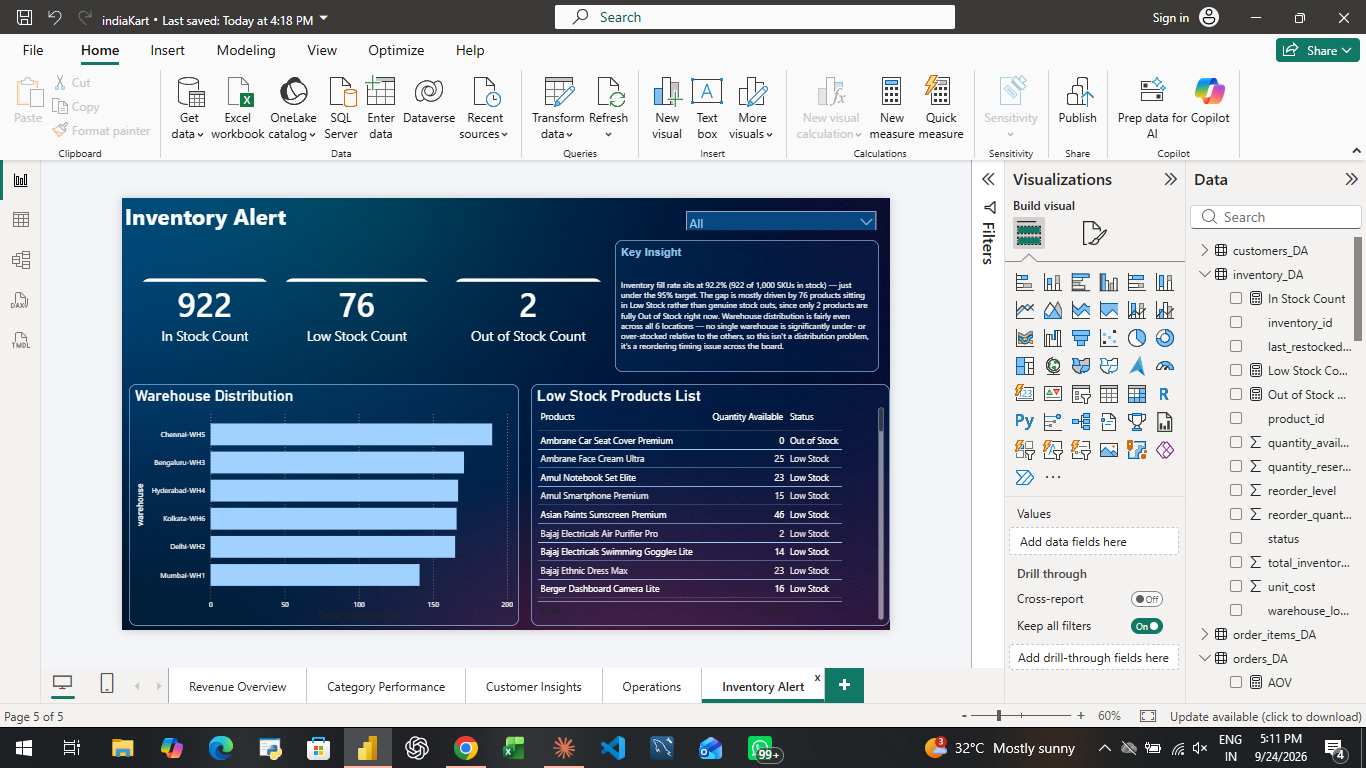

What the dashboard file says about the page in this screenshot:
{"tool":"powerbi","page":{"name":"Inventory Alert","canvas":[1280,720],"ordinal":4},"visuals":[{"type":"textbox","box":[0,0,533.3,70],"z":0},{"type":"textbox","box":[821.7,70,440,220],"z":3000},{"type":"barChart","title":"Warehouse Distribution","fields":{"Category":["inventory_DA.warehouse_location"],"Y":["CountNonNull(inventory_DA.inventory_id)"]},"box":[11.7,310,650,403.3],"z":4000},{"type":"slicer","fields":{"Values":["inventory_DA.status"]},"box":[935,16.7,326.7,36.7],"z":5000},{"type":"tableEx","title":"Low Stock Products List","fields":{"Values":["products_DA.product_name","Sum(inventory_DA.quantity_available)","inventory_DA.status"]},"box":[681.7,310,598.3,403.3],"z":6000},{"type":"cardVisual","fields":{"Data":["inventory_DA.In Stock Count"]},"box":[11.7,116.7,253.3,150],"z":6001},{"type":"cardVisual","fields":{"Data":["inventory_DA.Low Stock Count"]},"box":[250,116.7,283.3,150],"z":6002},{"type":"cardVisual","fields":{"Data":["inventory_DA.Out of Stock Count"]},"box":[533.3,116.7,288.3,150],"z":6003}]}

Visuals, with their boxes on the page's 1280x720 design canvas (x1, y1, x2, y2). These are canvas units, not pixel positions in the 1366x768 screenshot, which may show the page scaled, cropped or inside an application window:
textbox: Rect(0, 0, 533, 70)
textbox: Rect(822, 70, 1262, 290)
"Warehouse Distribution" barChart: Rect(12, 310, 662, 713)
slicer - inventory_DA.status: Rect(935, 17, 1262, 53)
"Low Stock Products List" tableEx: Rect(682, 310, 1280, 713)
cardVisual - inventory_DA.In Stock Count: Rect(12, 117, 265, 267)
cardVisual - inventory_DA.Low Stock Count: Rect(250, 117, 533, 267)
cardVisual - inventory_DA.Out of Stock Count: Rect(533, 117, 822, 267)
